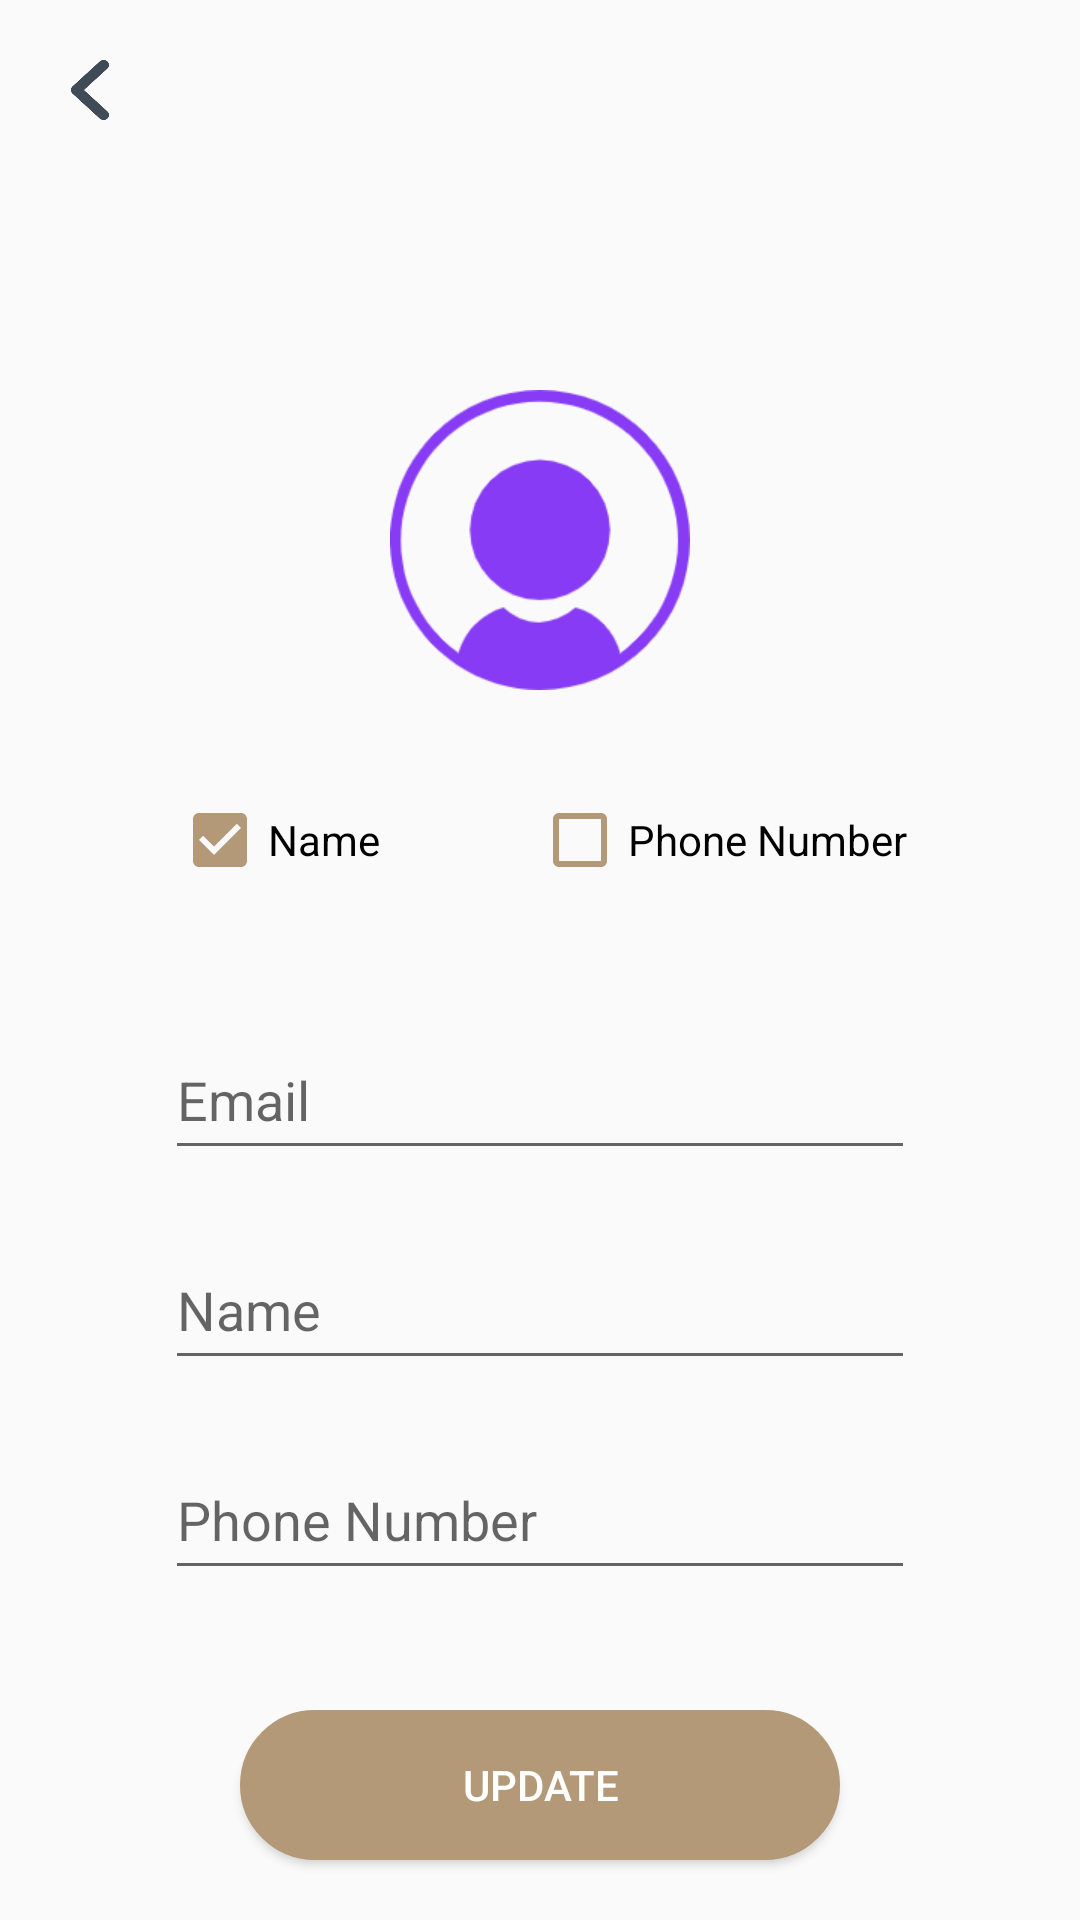

Named icons in this screenshot (1080 × 1920) and their centers, [x,y]:
back: [90,90]
user: [540,540]
